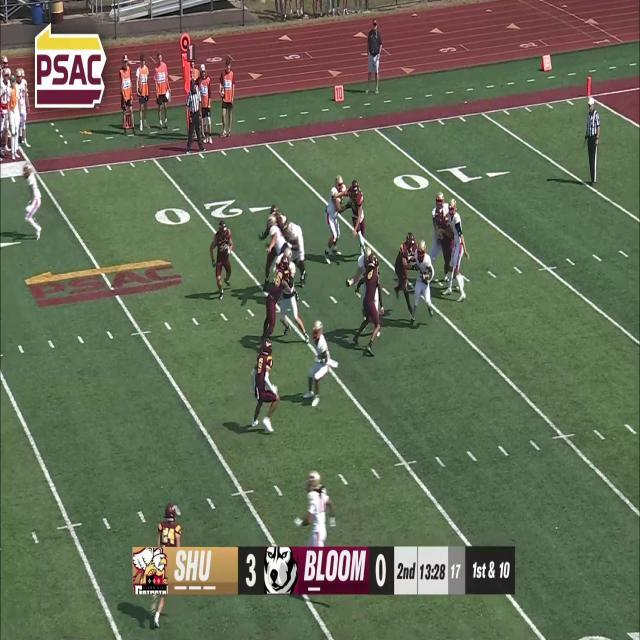football: (421, 272, 430, 284)
